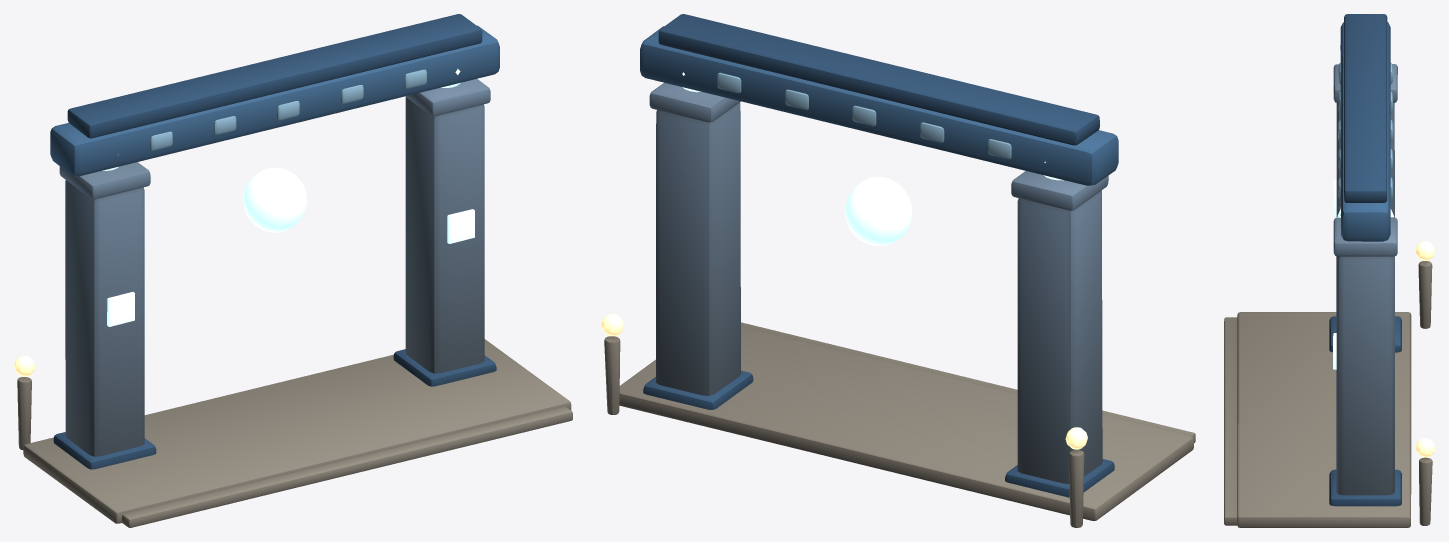
3 views of the same model, side by side, from view 1: azimuth 30°, elevation 25°; view 2: azimuth 150°, elevation 25°; view 3: azimuth 270°, elevation 25° (orthographic). The views are drawn at different scales.
Parts seen in each view (by area): view 1: gate_fa199a65; view 2: gate_fa199a65; view 3: gate_fa199a65.
Part boxes in pixels (x1,y1,x2,y2): gate_fa199a65: (14,14,572,527); gate_fa199a65: (601,14,1195,527); gate_fa199a65: (1224,14,1434,527).
Size of the model in its own units: 5.88 by 4.33 by 2.55.
